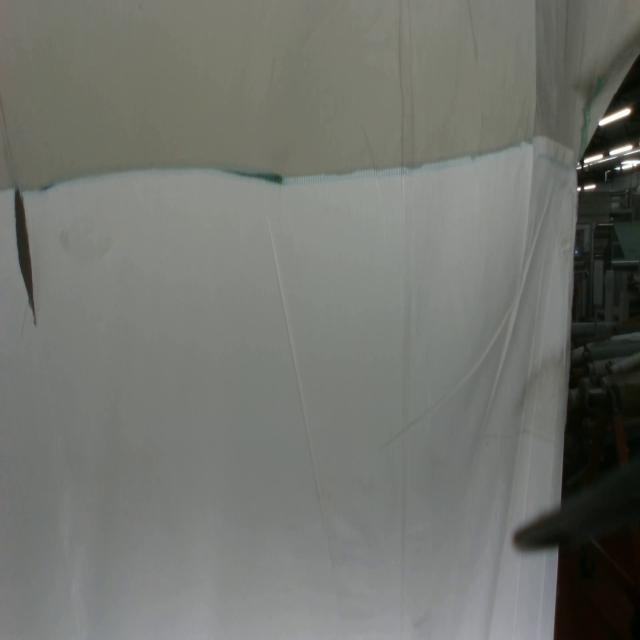crease: (263, 213, 327, 518), (485, 177, 553, 425), (396, 0, 413, 636)
hole: (15, 188, 38, 330)
